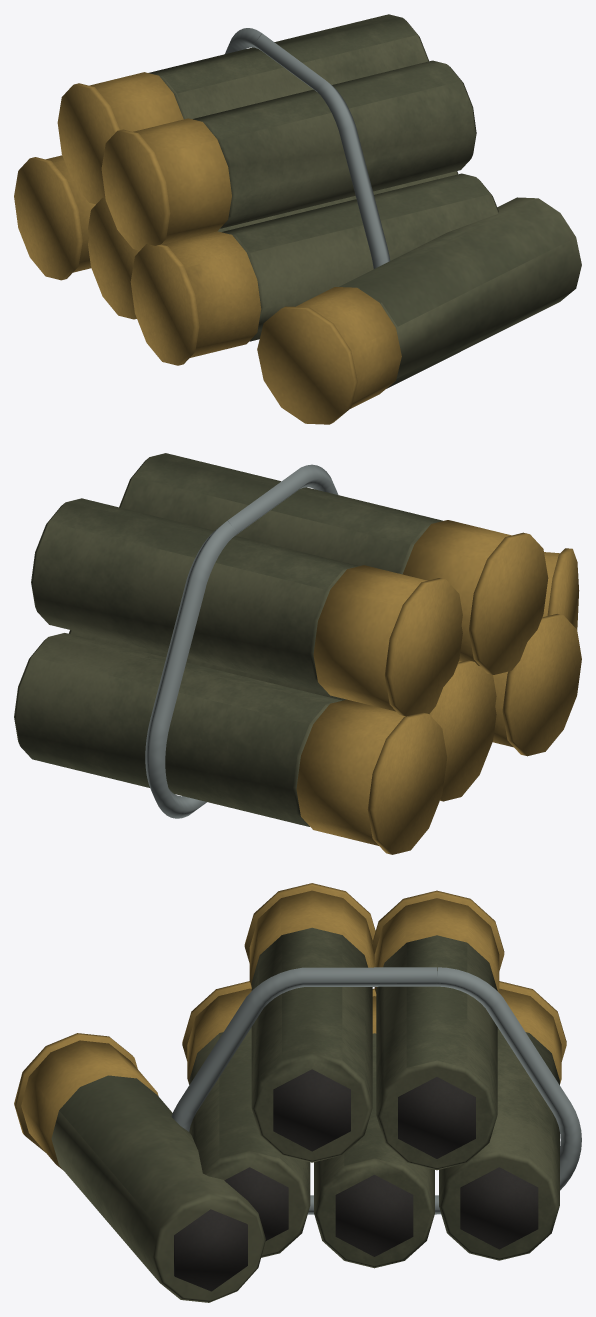
File: prop_ammo_shotgun_01.gltf
The picture shows the model from 3 angles, top to bottom: view 1: azimuth 30°, elevation 25°; view 2: azimuth 150°, elevation 25°; view 3: azimuth 270°, elevation 25°; orthographic projection. The views are drawn at different scales.
Parts seen in each view (by area): view 1: prop_ammo_shotgun_01_item_atlas_01; view 2: prop_ammo_shotgun_01_item_atlas_01; view 3: prop_ammo_shotgun_01_item_atlas_01.
Part boxes in pixels (left/top/right/bottom): prop_ammo_shotgun_01_item_atlas_01: left=14, top=14, right=581, bottom=424; prop_ammo_shotgun_01_item_atlas_01: left=14, top=453, right=581, bottom=854; prop_ammo_shotgun_01_item_atlas_01: left=14, top=883, right=581, bottom=1302.
Size of the model in its own units: 0.0782 by 0.047 by 0.0956.
Materials: 1 (1 with a texture image).
